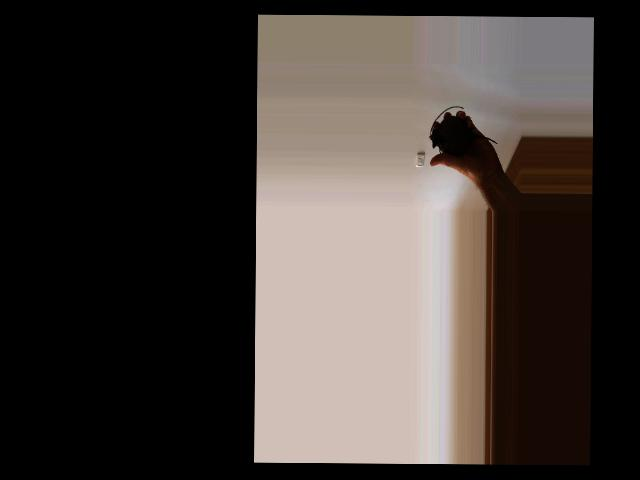beet: (429, 105, 497, 154)
